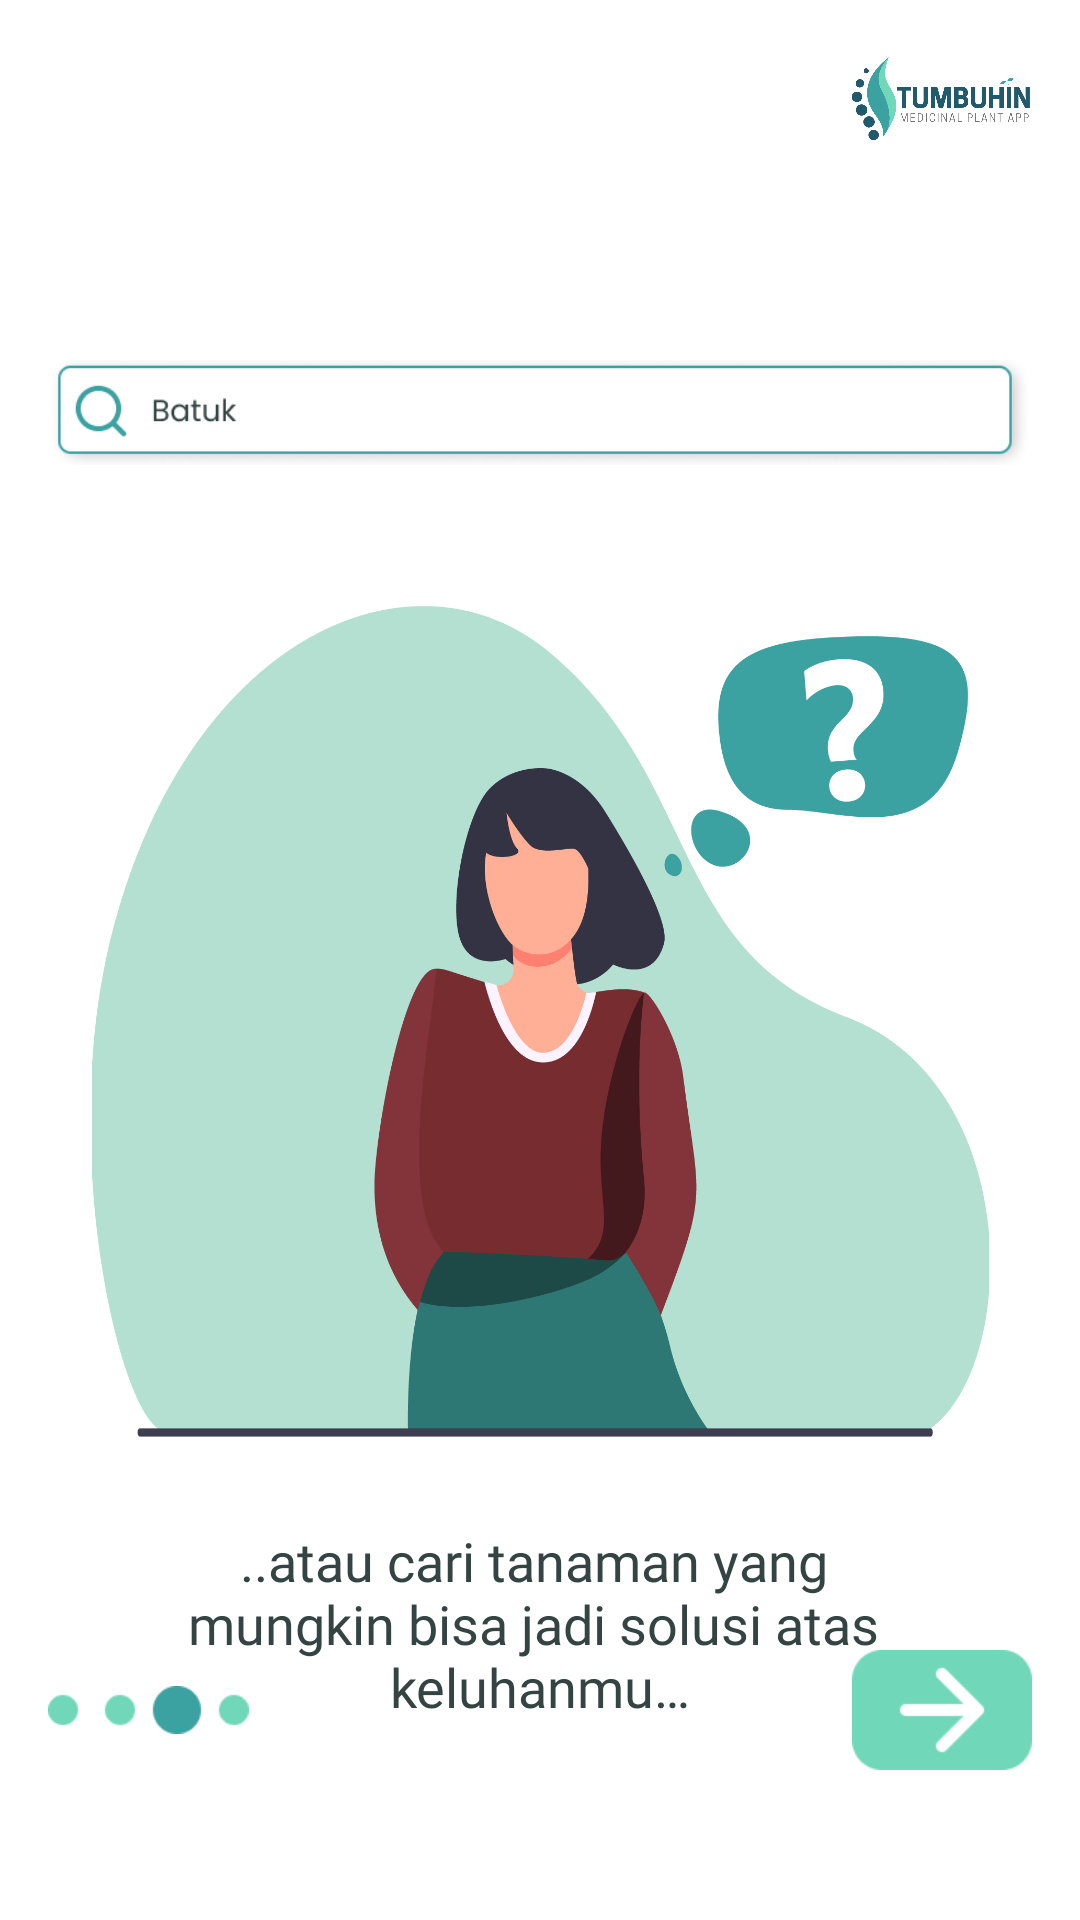

Icons on this 1080px x 1920px Android screen, each with its box as (x1, y1, x2, y2):
Next Button: (852, 1650, 1032, 1770)
Progress Icon: (48, 1686, 249, 1734)
